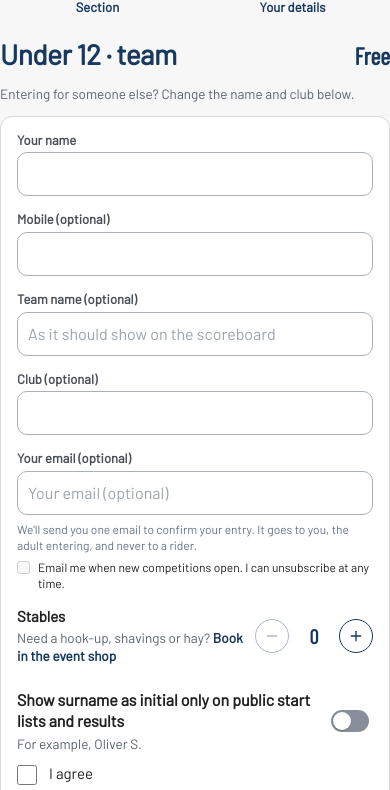
Test: the entry form › sends the entry again from Try again in the problem strip
The width and height of the screenshot is (390, 790).
In the field labelled "Your name": (195, 174) [17, 152, 373, 196], type "Alice Rider"
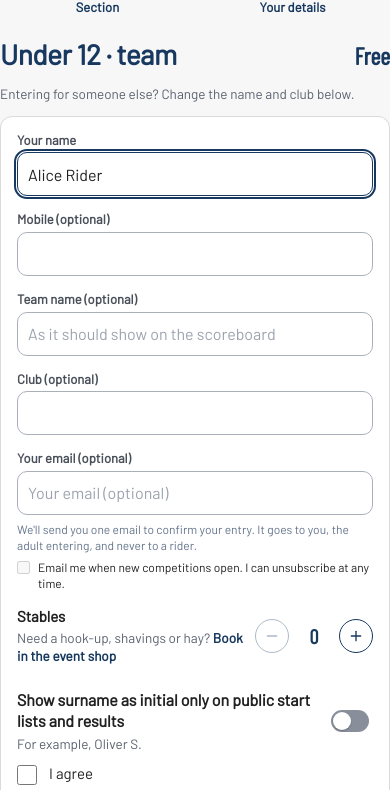
Click the checkbox labelled "I agree": (27, 775) [17, 765, 37, 785]
(page scrolled)
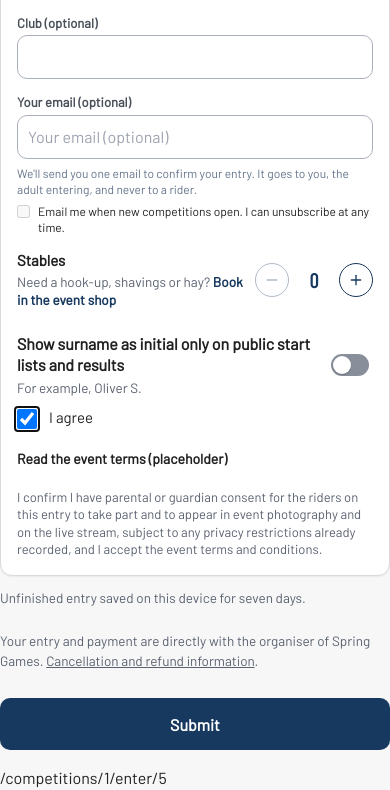
Click the button "Submit": (195, 724) [0, 698, 389, 750]
(page scrolled)
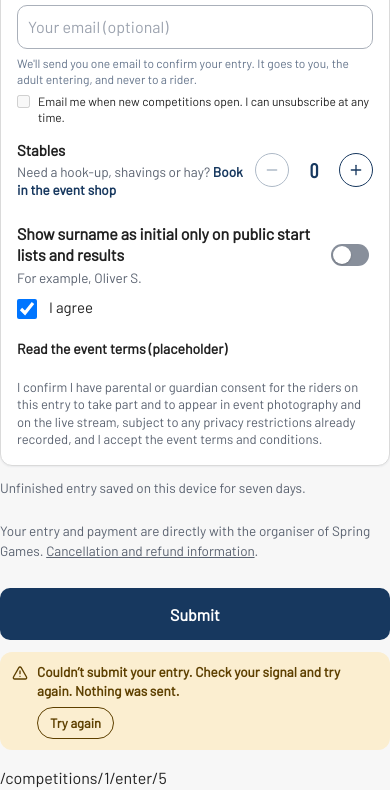
Click the button "Try again": (76, 723) [37, 707, 114, 739]
(page scrolled)
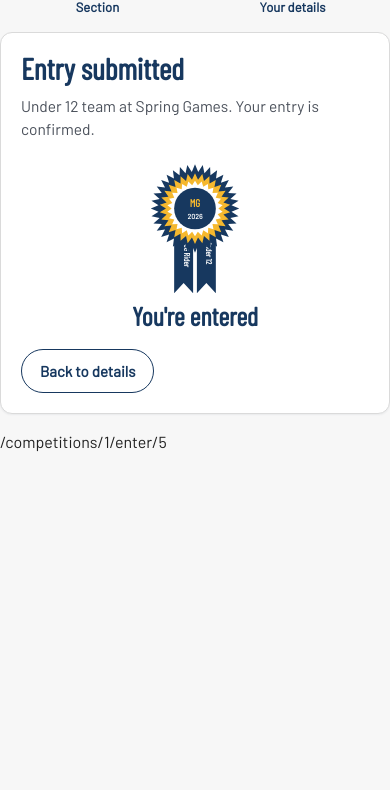
expect the heading "Entry submitted" is shown: met, box [21, 50, 184, 86]
